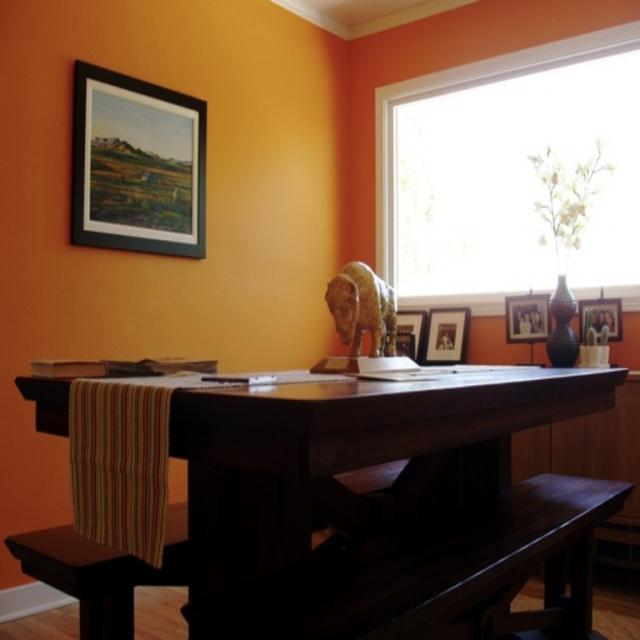desk: (18, 354, 625, 638)
